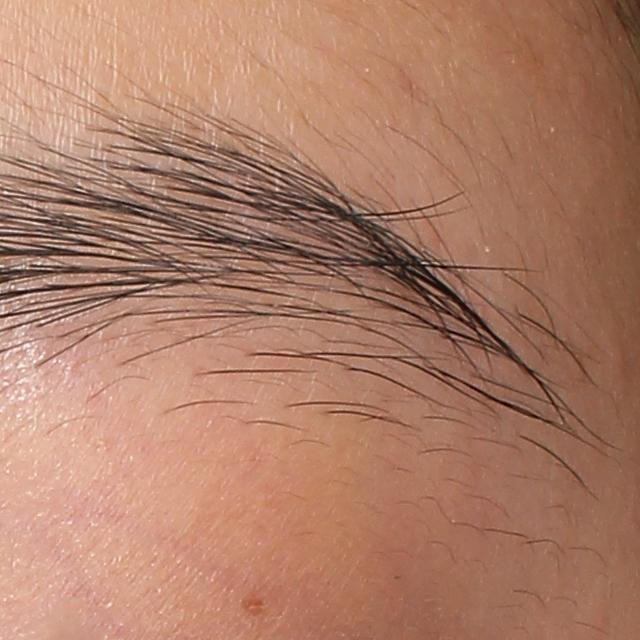nevus: (242, 589, 267, 621)
